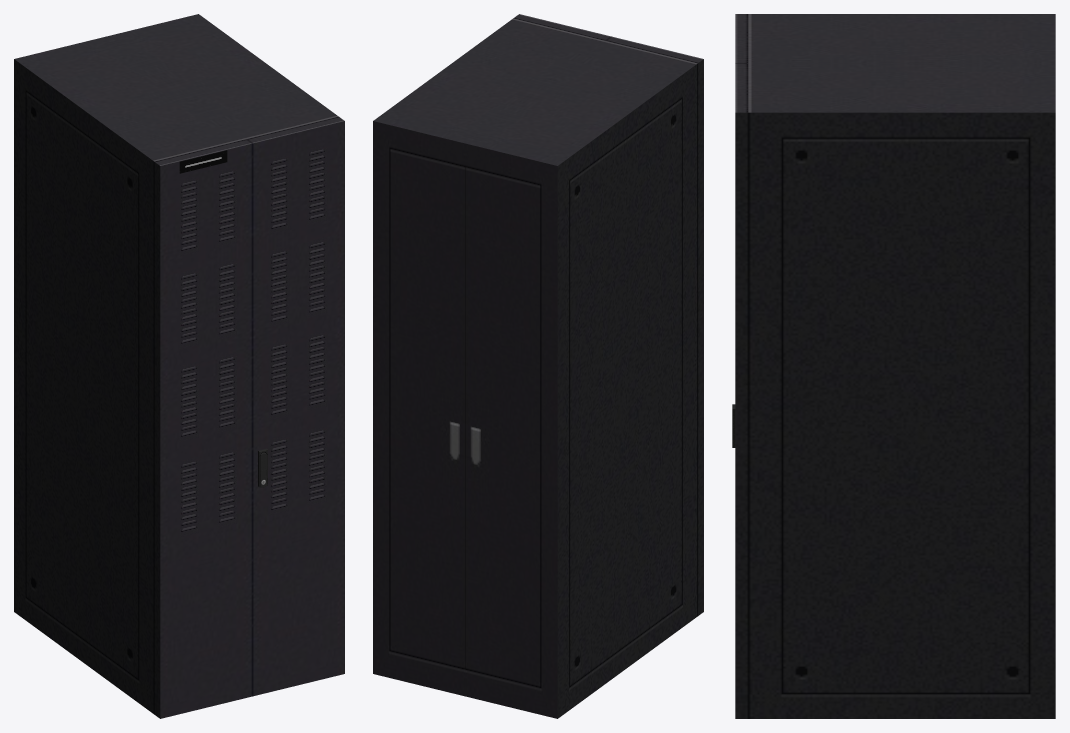
The model's file is BPACK.glb.
3 views of the same model, side by side, from view 1: azimuth 30°, elevation 25°; view 2: azimuth 150°, elevation 25°; view 3: azimuth 270°, elevation 25° (orthographic). The views are drawn at different scales.
Parts seen in each view (by area): view 1: polySurface154; view 2: polySurface154; view 3: polySurface154.
Part boxes in pixels (x1,y1,x2,y2): polySurface154: (14,14,344,718); polySurface154: (373,14,703,718); polySurface154: (732,14,1055,718).
Bounding box in the file's own units: 8.73 × 25 × 12.09.
Materials: 1 (1 with a texture image).
